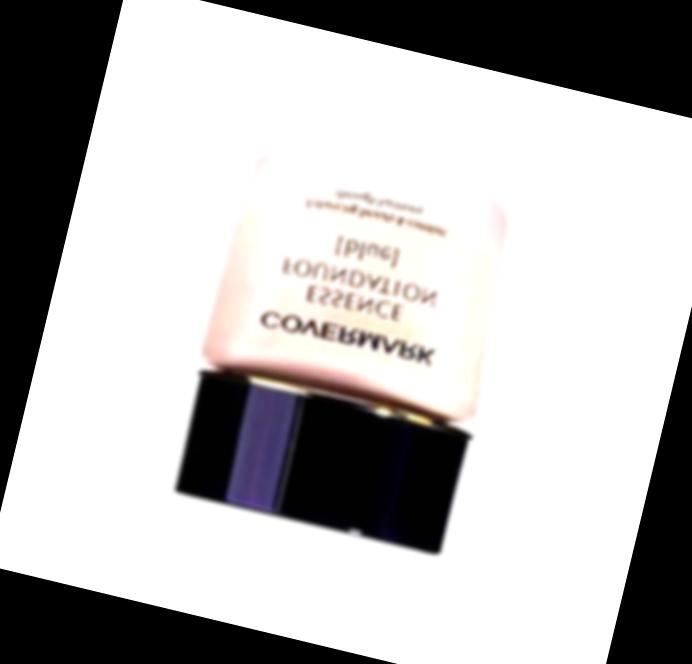cosmetic: (165, 136, 529, 557)
